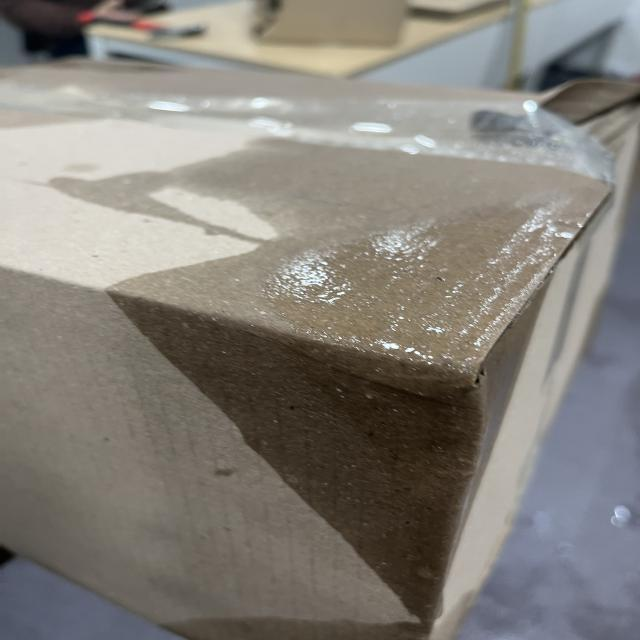hole: (1, 0, 236, 72)
wet: (123, 136, 611, 624)
